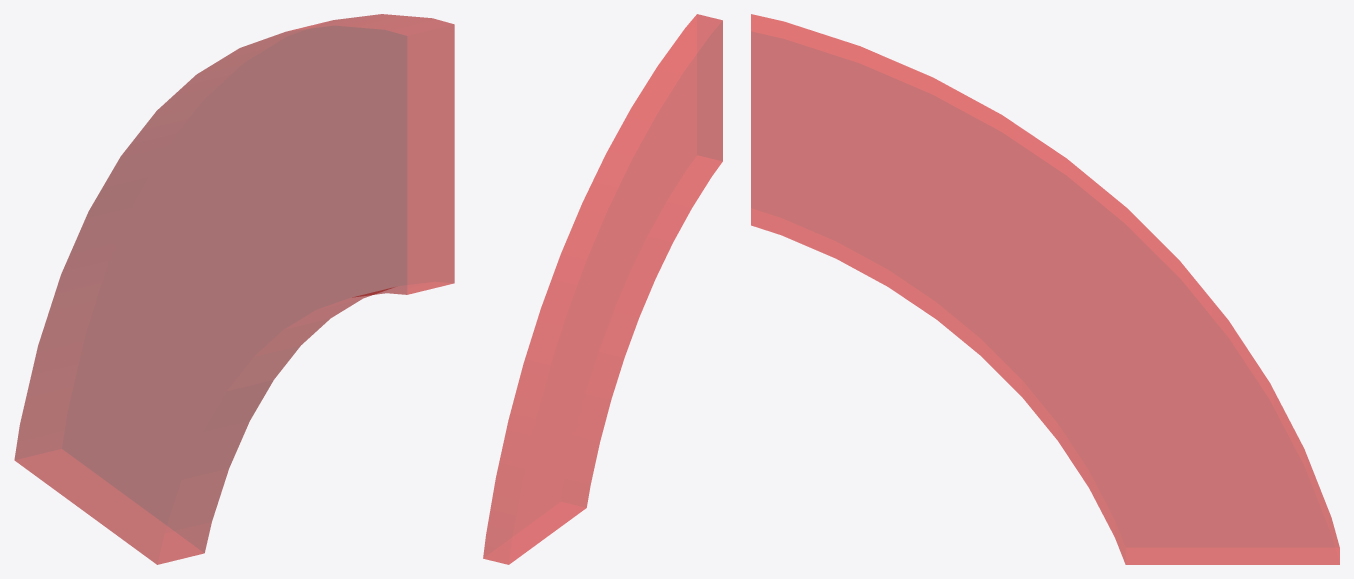
The model's file is X-Axis-Rotation-Spinner.obj.
3 renders of one model, left to right at view 1: azimuth 30°, elevation 25°; view 2: azimuth 150°, elevation 25°; view 3: azimuth 270°, elevation 25°, orthographic. The views are drawn at different scales.
Visible parts, largest first — view 1: X-Axis-Rotation-Spinner_Cylinder.006; view 2: X-Axis-Rotation-Spinner_Cylinder.006; view 3: X-Axis-Rotation-Spinner_Cylinder.006.
Boxes of the visible parts, bbox=[...] form: X-Axis-Rotation-Spinner_Cylinder.006: bbox=[14, 14, 454, 564]; X-Axis-Rotation-Spinner_Cylinder.006: bbox=[483, 14, 722, 564]; X-Axis-Rotation-Spinner_Cylinder.006: bbox=[751, 14, 1339, 564].
Bounding box in the file's own units: 0.05 × 0.717 × 0.717.
